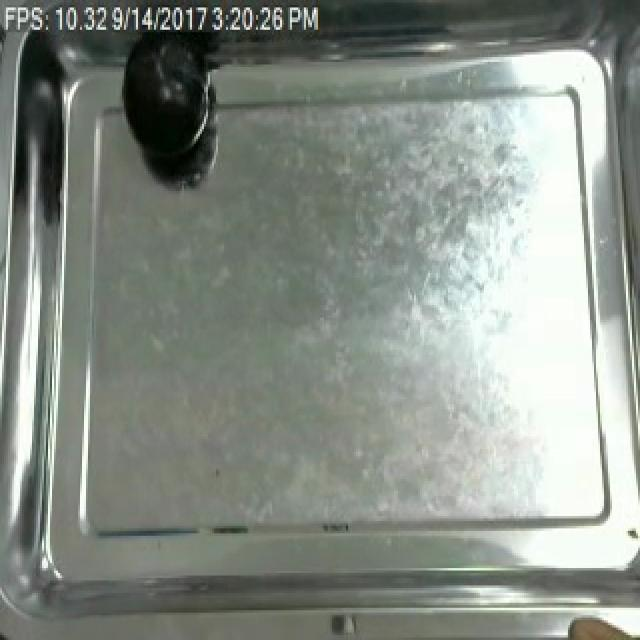Fruit: (114, 25, 218, 176), (556, 608, 640, 640)
